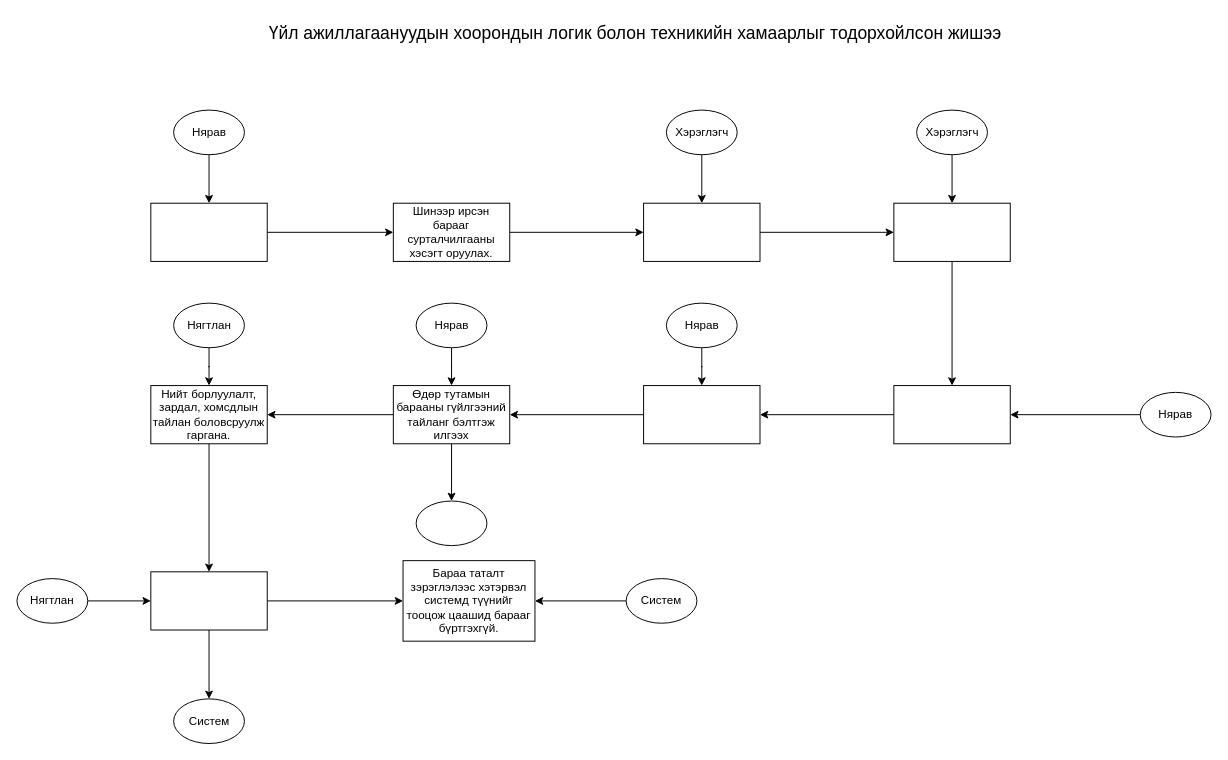
This 1228x760 diagram has some shape labels left out. The centre of each missing label's shape, as x and y in pixels:
"Бараанд үнийн зэрэглэл тогтооно." goes at [701,414].
"Захирал" goes at [451,523].
"Системээс барааны талаар мэдээлэл харах." goes at [701,231].
"Систэмд барааг ангилалаар нь бүртгэнэ." goes at [208,231].
"Сурталчилгааны бараанд like дарна." goes at [951,231].
"Тухайн сарын үнийн зэрэглэлтэй бараа татах хэмжээг системд оруулна." goes at [208,600].
"Өдөр тутам ирсэн барааг бүртгэнэ." goes at [951,414].
